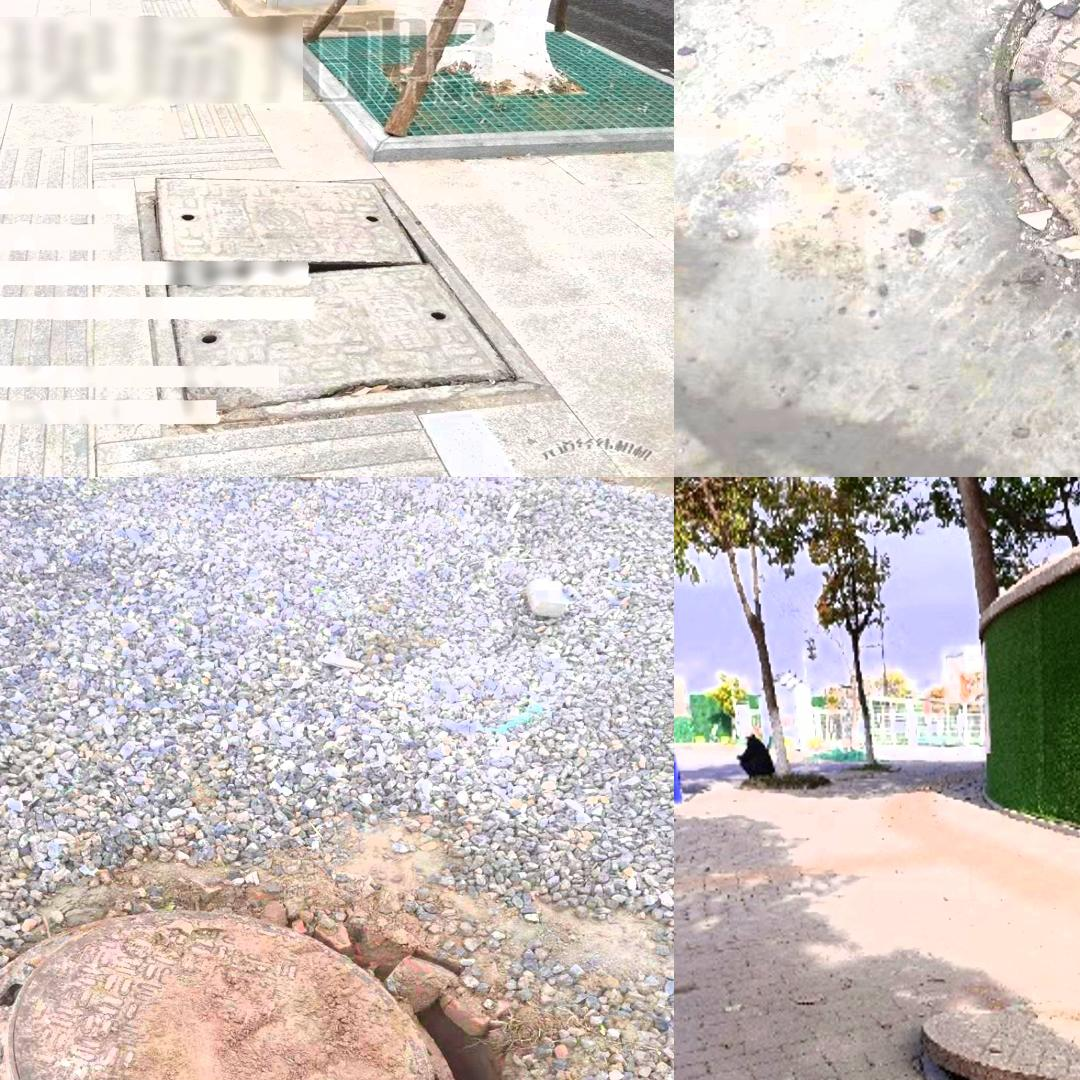uncovered: (126, 173, 565, 433), (0, 905, 523, 1080), (994, 0, 1080, 318), (917, 1006, 1080, 1080)
